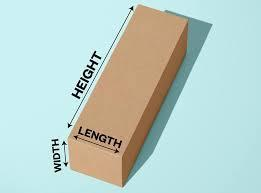box: (67, 3, 190, 189)
